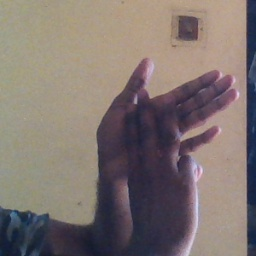M: (94, 54, 242, 208)
